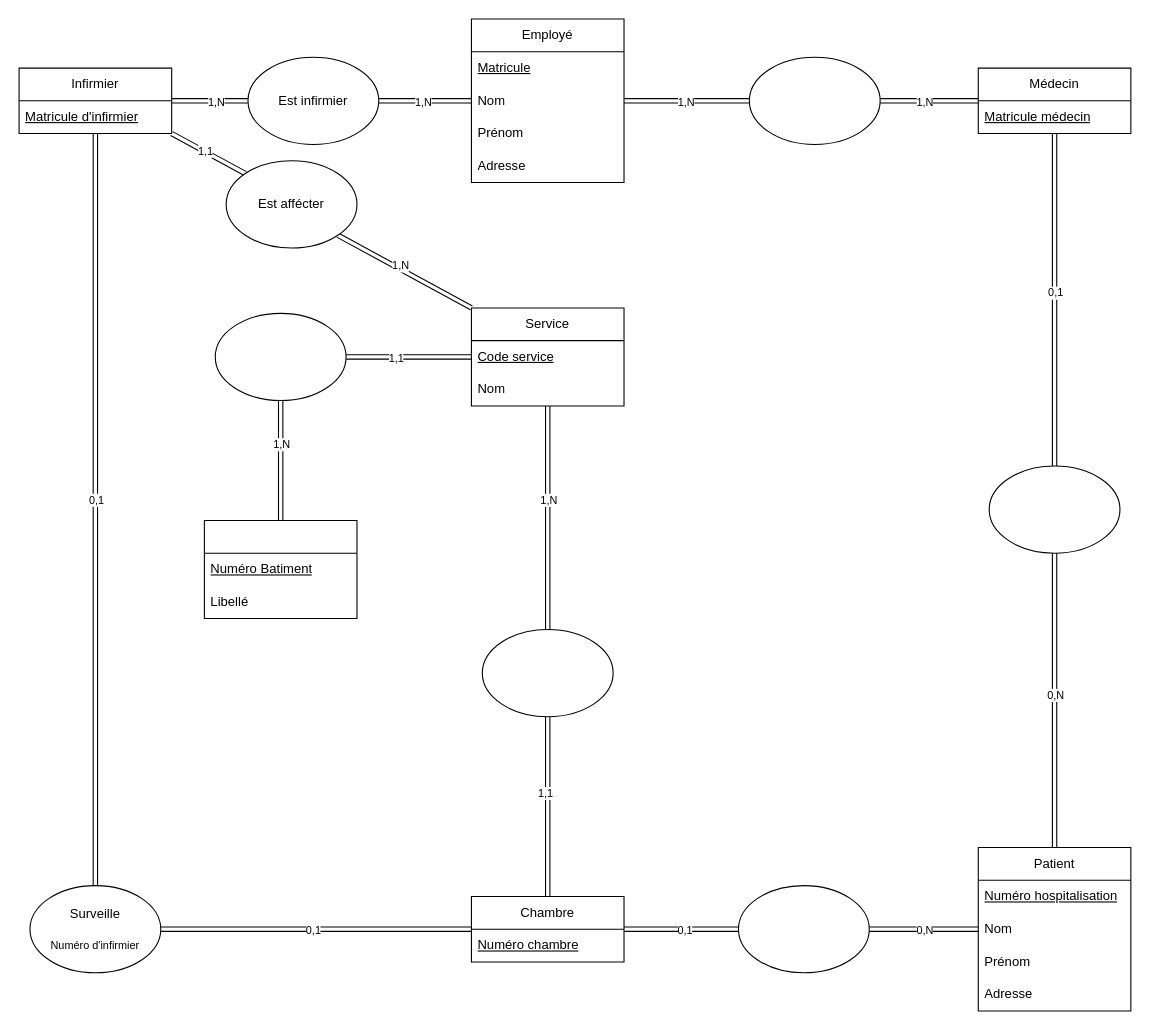
The diagram is 1150 pixels wide and 1030 high, and some of its shapes have lost their labels. The box of each missing label's shape, as (x1, y1, x2, y2) in pixels:
Est dans: (214, 312, 346, 401)
Est hospitalisé dans Numéro de chambre: (737, 885, 869, 973)
Est médecin: (748, 56, 880, 144)
Est soigné par: (988, 465, 1120, 553)
Possède Numéro de lit disponible: (481, 628, 613, 717)
